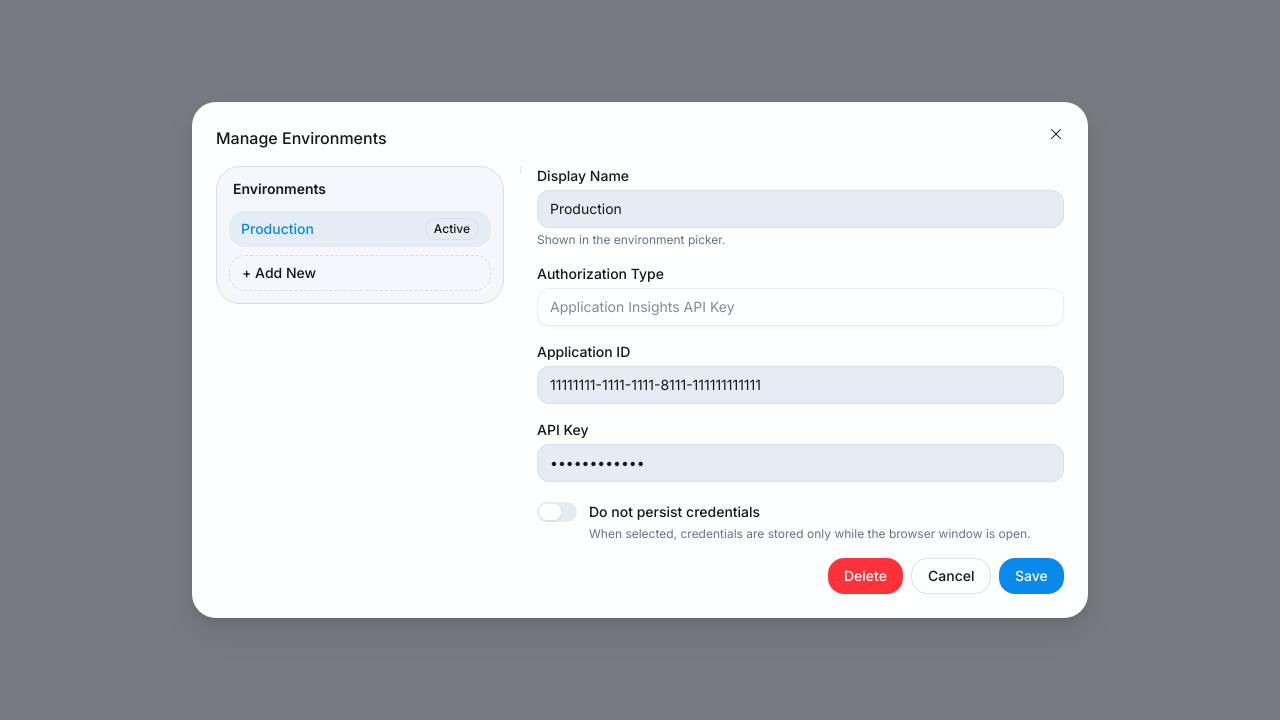
Test: LogAnalyzerDialog › shows a save-specific error when persistence fails after verification succeeds
Replace the text in the field labelled "Display Name" with "Production EU" at [800, 209], box [537,190,1064,228]
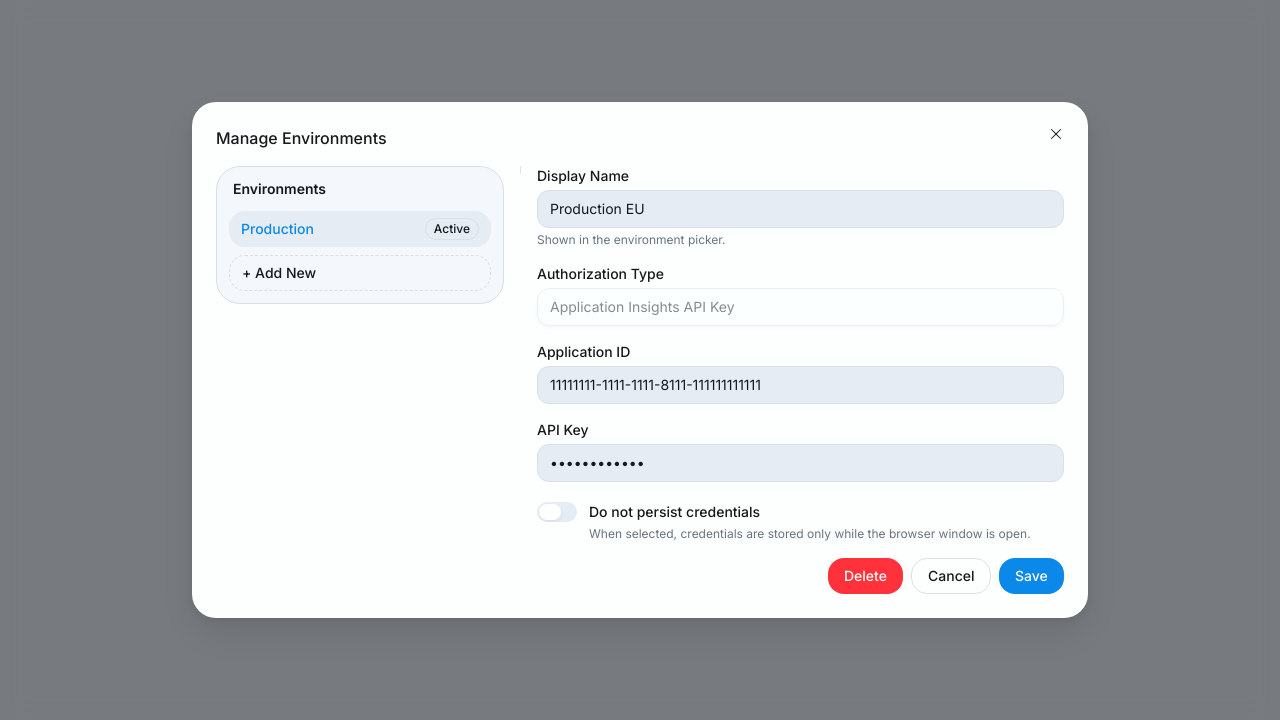
Replace the text in the field labelled "Application ID" with "22222222-2222-4222-8222-222222222222" at [800, 385], box [537,366,1064,404]
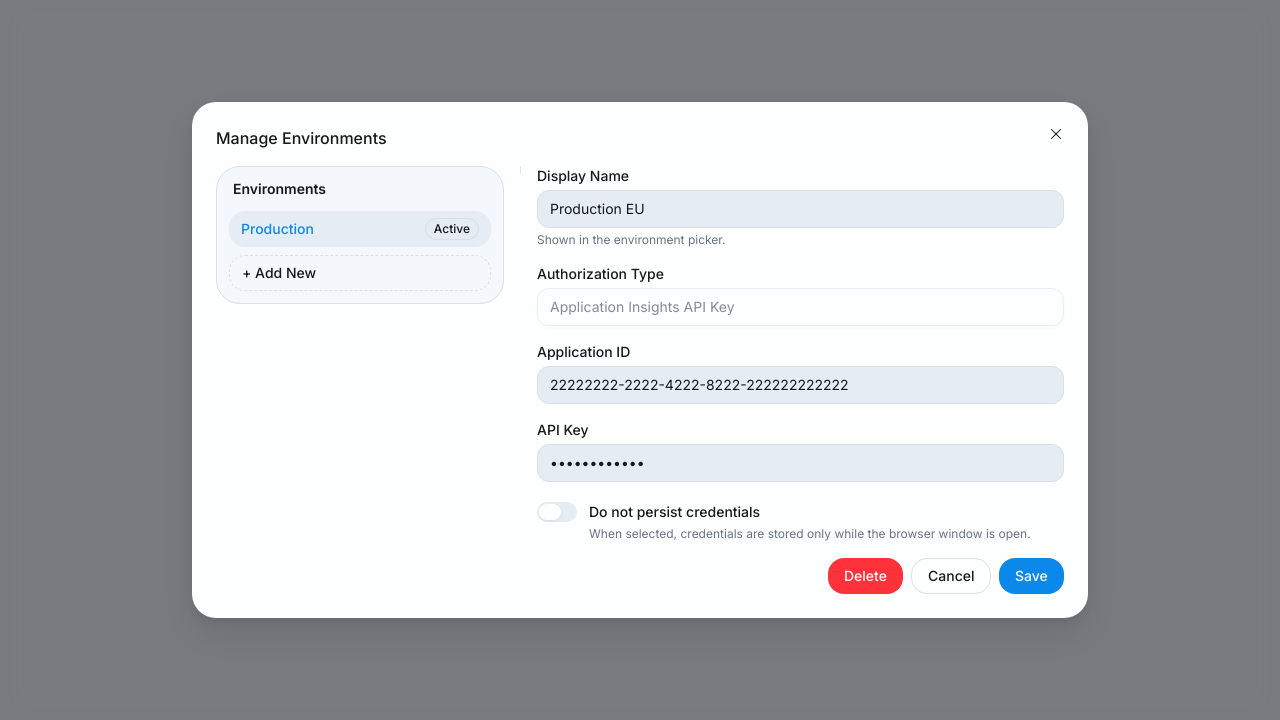
Type "updated-api-key" into the password field labelled "API Key" at [800, 463], box [537,444,1064,482]
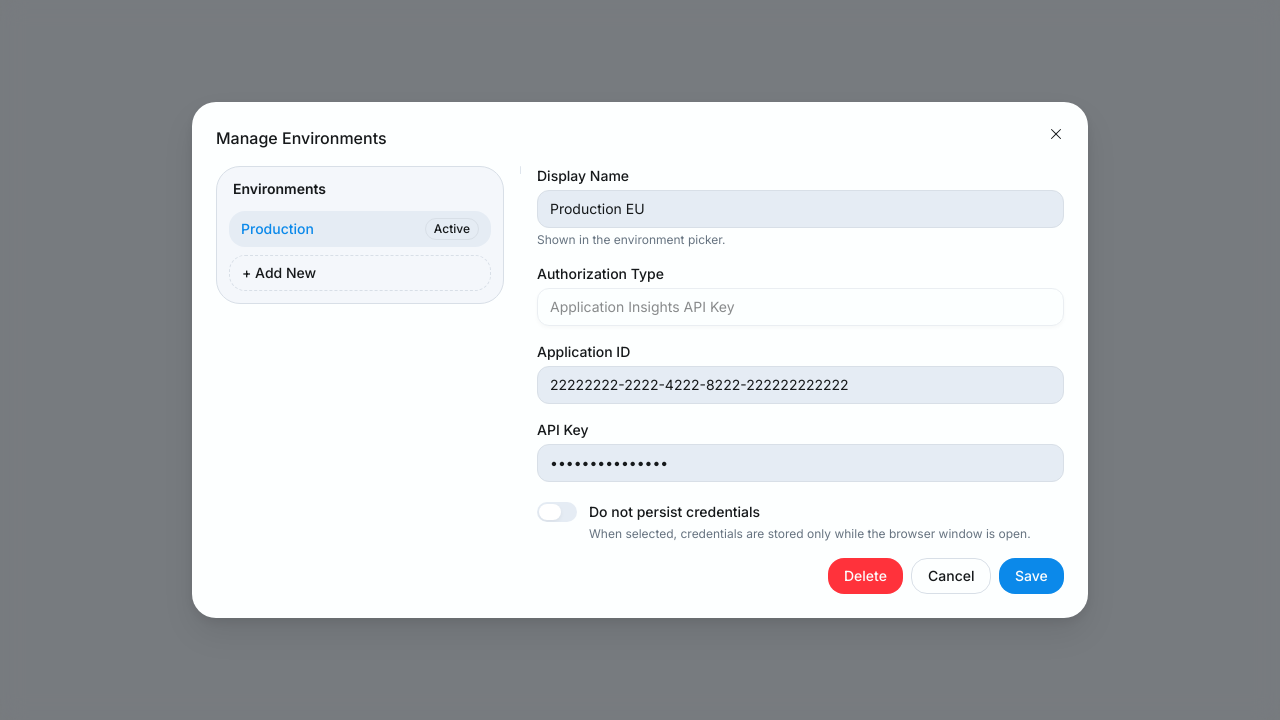
Click the button "Save" at [1032, 576], box [999,558,1064,594]
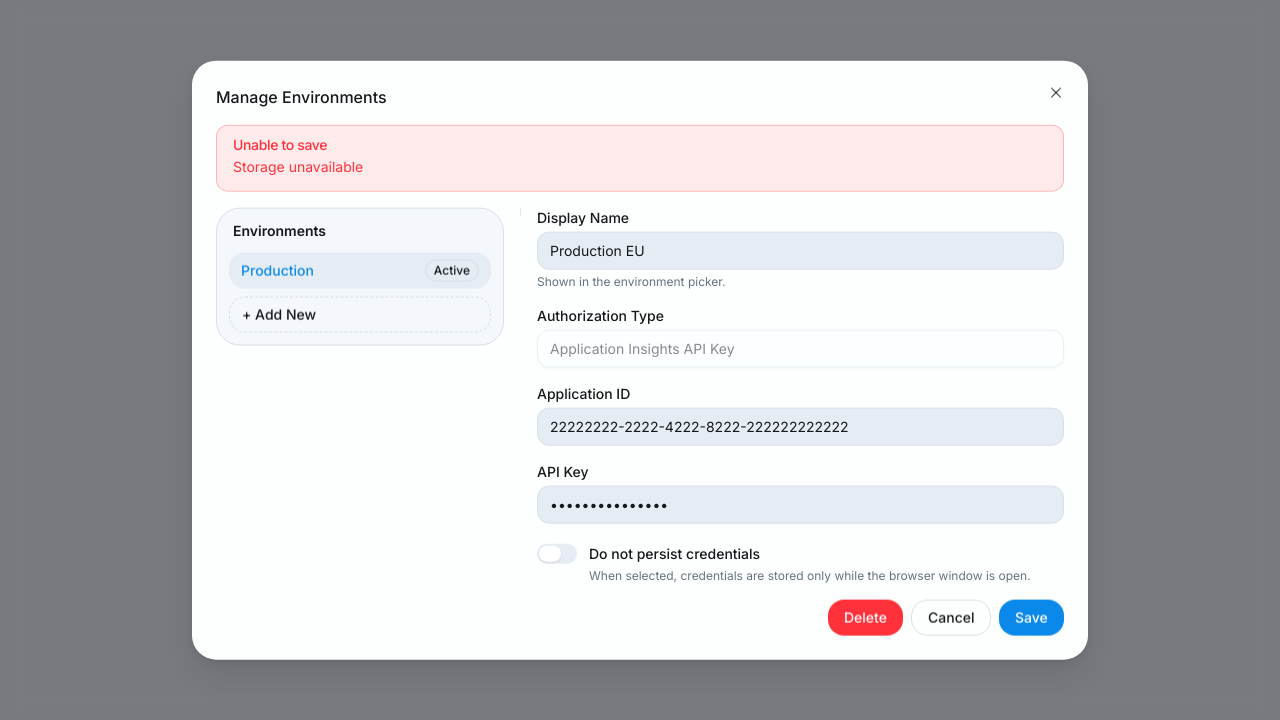
Result: the heading "Unable to save" is shown at [233,136,327,153]
Result: the text "Storage unavailable" is shown at [233,158,363,175]
